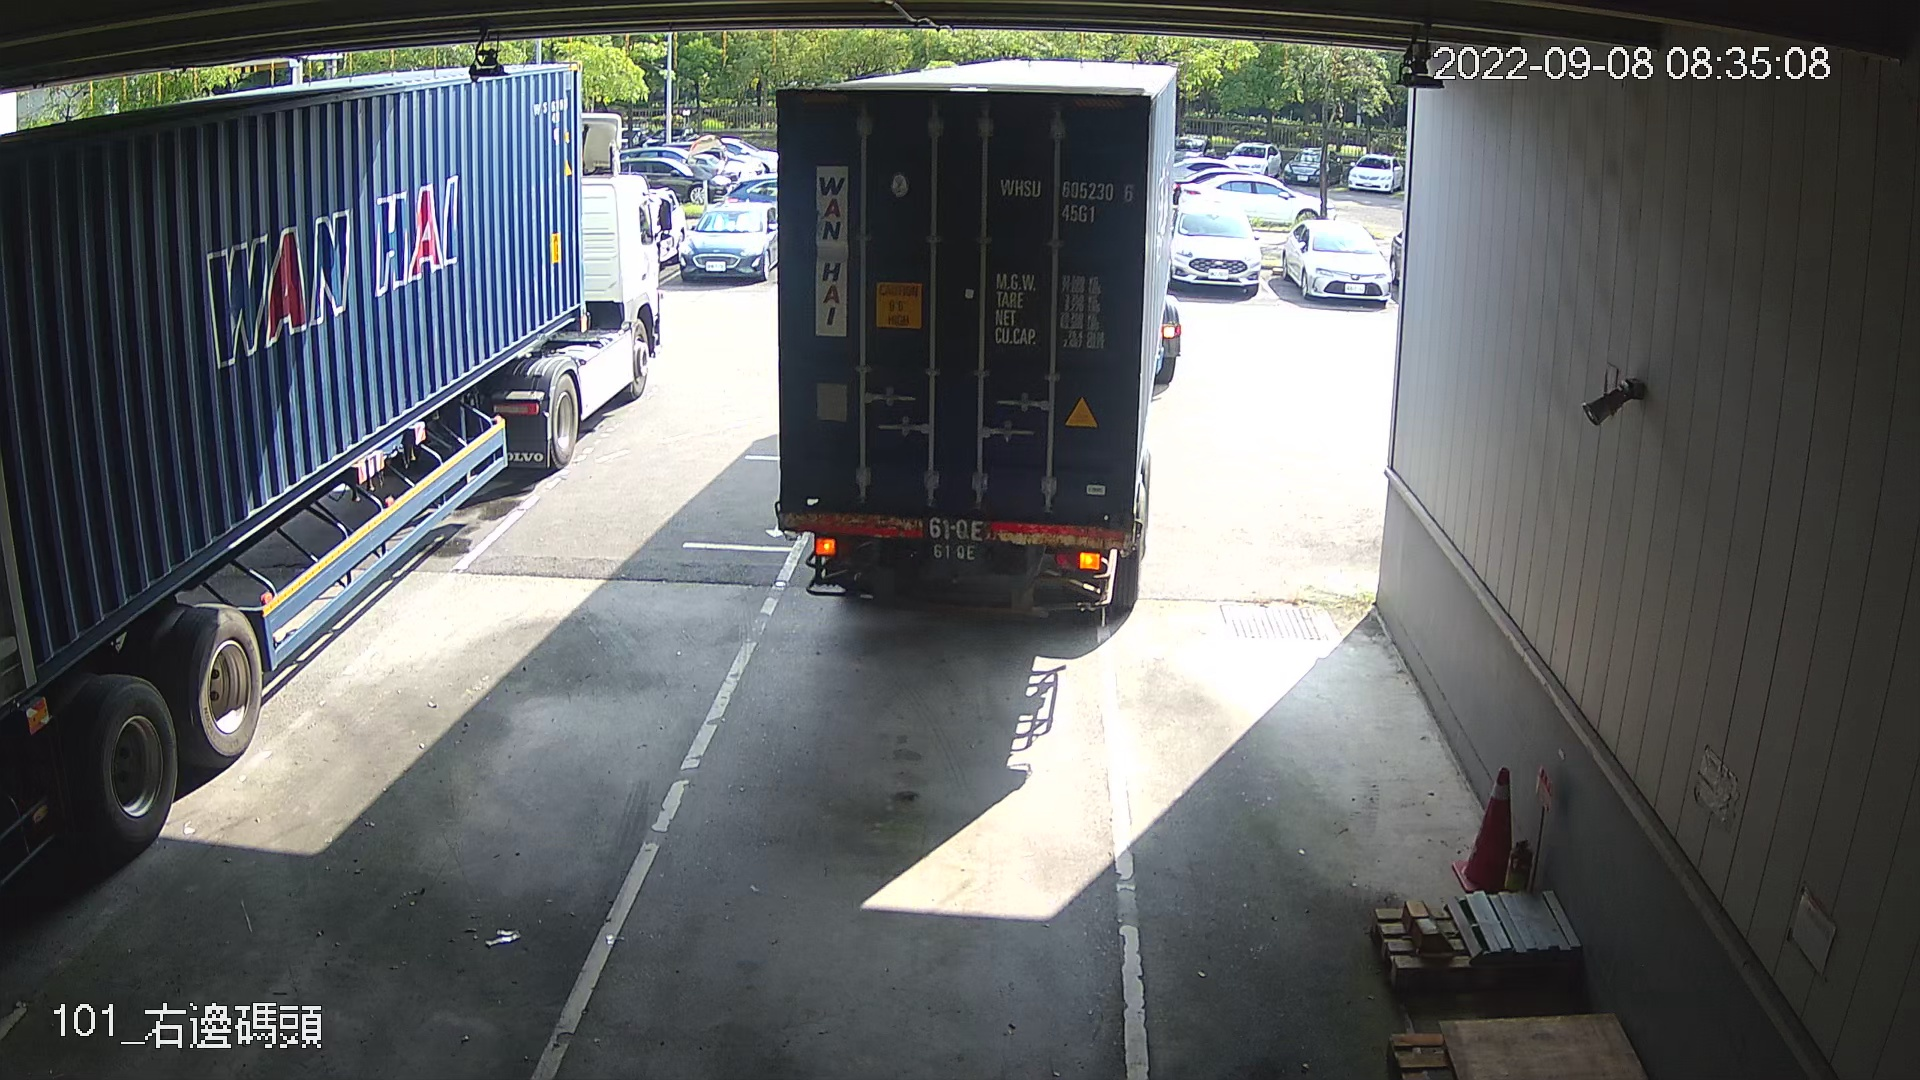container: (992, 167, 1139, 233)
